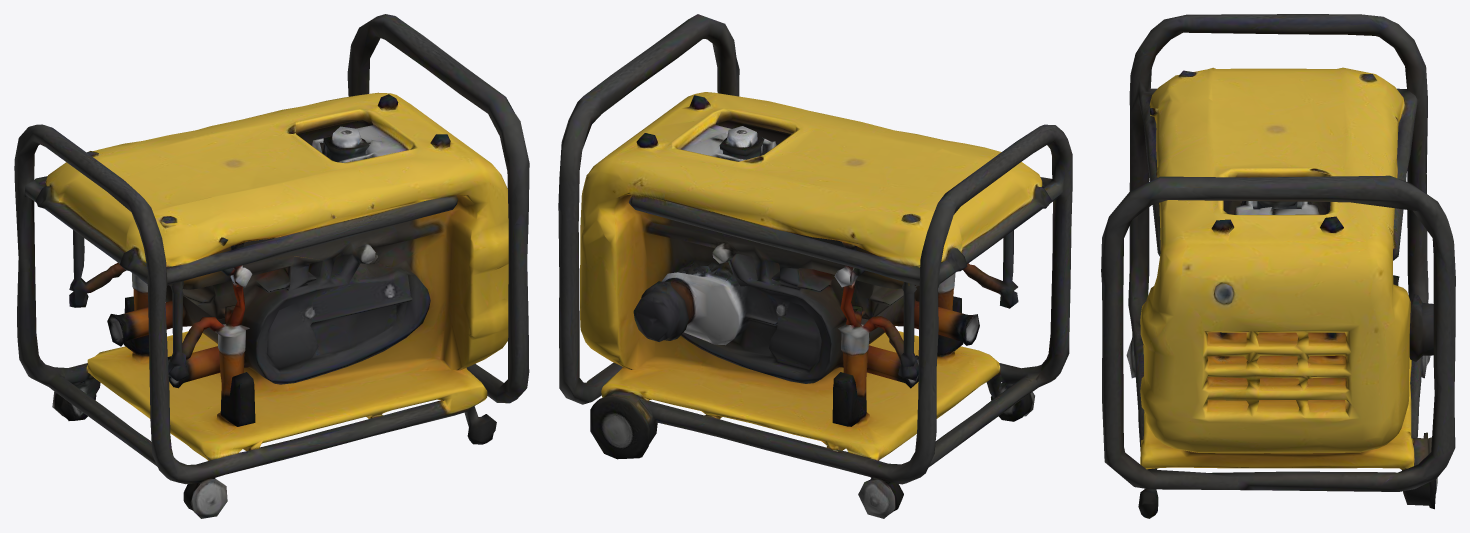
File: generator.glb
3 views of the same model, side by side, from view 1: azimuth 30°, elevation 25°; view 2: azimuth 150°, elevation 25°; view 3: azimuth 270°, elevation 25° (orthographic). The views are drawn at different scales.
Visible parts, largest first — view 1: tripo_node_a3db71be-b7fc-4d99-b20c-207c8a58c1a2; view 2: tripo_node_a3db71be-b7fc-4d99-b20c-207c8a58c1a2; view 3: tripo_node_a3db71be-b7fc-4d99-b20c-207c8a58c1a2.
Boxes of the visible parts, <box> form: tripo_node_a3db71be-b7fc-4d99-b20c-207c8a58c1a2: <box>14,14,529,518</box>; tripo_node_a3db71be-b7fc-4d99-b20c-207c8a58c1a2: <box>558,14,1072,518</box>; tripo_node_a3db71be-b7fc-4d99-b20c-207c8a58c1a2: <box>1101,14,1455,518</box>.
Size of the model in its own units: 0.594 by 0.5 by 0.456.
Materials: 1 (1 with a texture image).
